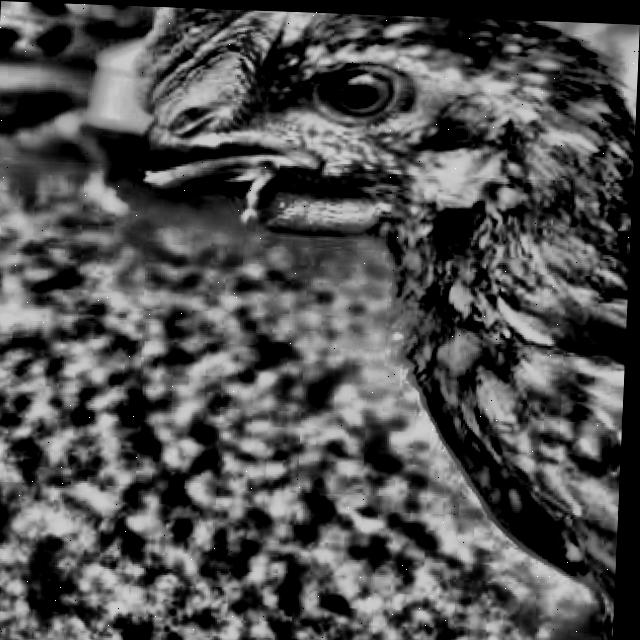Healthy: (281, 41, 422, 134)
